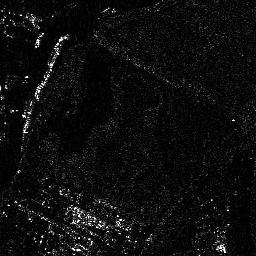ship: (46, 35, 63, 67)
